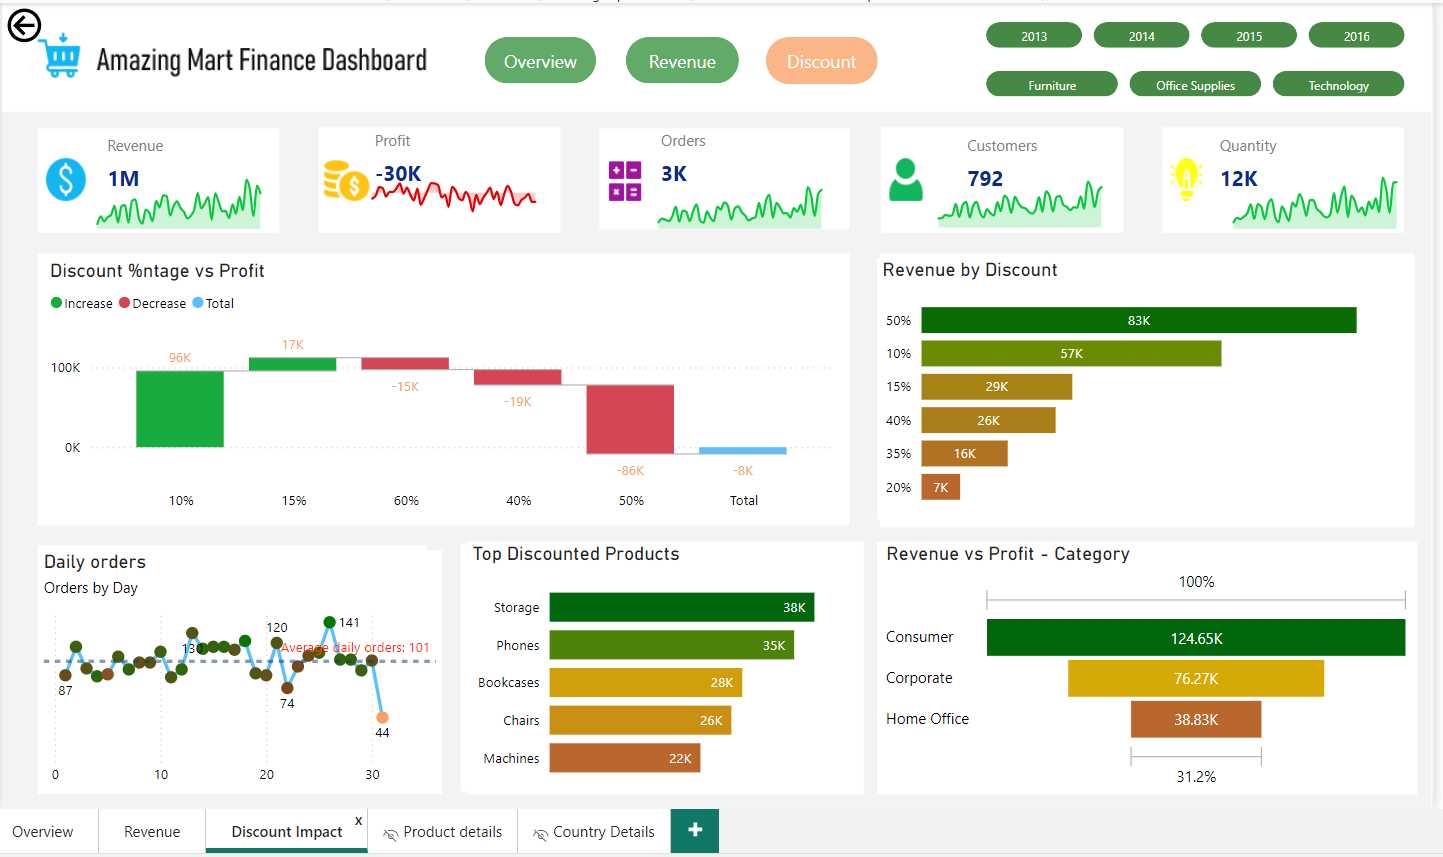

The dashboard page shown, as its layout file describes it:
{"tool":"powerbi","page":{"name":"Discount Impact","canvas":[1280,720],"ordinal":2},"visuals":[{"type":"hundredPercentStackedBarChart","title":"Profit by Ship Mode","fields":{"Series":["OrderBreakdown.Discount"],"Y":["OrderBreakdown.Total Profit"],"Category":["ListOfOrders.Ship Mode"]},"box":[782.2,481.6,478.9,225],"z":1000},{"type":"barChart","title":"Top Discounted Products","fields":{"Y":["Sum(OrderBreakdown.Discount $)"],"Category":["OrderBreakdown.Sub-Category"]},"box":[403.4,481.6,365,225],"z":2000},{"type":"actionButton","box":[556.7,30.4,101.2,41.9],"z":3000},{"type":"actionButton","box":[682,30.2,100.2,42.5],"z":4000},{"type":"actionButton","box":[430.9,30.4,99.8,41.9],"z":5000},{"type":"waterfallChart","title":"Revenue vs Profit - Category","fields":{"Category":["OrderBreakdown.Category"],"Y":["Sum(OrderBreakdown.Discount Revenue)"]},"box":[785.4,481.8,478.9,225.2],"z":6000},{"type":"actionButton","box":[0,0,100,40],"z":7000},{"type":"waterfallChart","title":"Discount %ntage vs Profit","fields":{"Category":["OrderBreakdown.Discount"],"Y":["Sum(OrderBreakdown.Profit)"]},"box":[37.6,228.4,710.7,233.8],"z":8000},{"type":"barChart","title":"Revenue by Discount","fields":{"Category":["OrderBreakdown.Discount"],"Y":["Sum(OrderBreakdown.Discount Revenue)"]},"box":[781.1,228.1,480.4,233.8],"z":9000},{"type":"lineChart","title":"Daily orders","fields":{"Y":["ListOfOrders.Orders"],"Category":["ListOfOrders.Order Date.Variation.Date Hierarchy.Day"]},"box":[32,482,371,225],"z":10000},{"type":"stackedAreaChart","fields":{"Category":["ListOfOrders.Order Date.Variation.Date Hierarchy.Year","ListOfOrders.Order Date.Variation.Date Hierarchy.Month"],"Y":["OrderBreakdown.Profit"]},"box":[315.6,134.5,175.6,78.2],"z":11000},{"type":"stackedAreaChart","fields":{"Category":["ListOfOrders.Order Date.Variation.Date Hierarchy.Year","ListOfOrders.Order Date.Variation.Date Hierarchy.Month"],"Y":["OrderBreakdown.Revenue"]},"box":[70,134.5,175.6,78.2],"z":12000},{"type":"stackedAreaChart","fields":{"Category":["ListOfOrders.Order Date.Variation.Date Hierarchy.Year","ListOfOrders.Order Date.Variation.Date Hierarchy.Month"],"Y":["ListOfOrders.Orders"]},"box":[572.2,134.5,175.6,78.2],"z":13000},{"type":"stackedAreaChart","fields":{"Category":["ListOfOrders.Order Date.Variation.Date Hierarchy.Year","ListOfOrders.Order Date.Variation.Date Hierarchy.Month"],"Y":["ListOfOrders.Customers"]},"box":[822,133.1,175.6,78.2],"z":14000},{"type":"stackedAreaChart","fields":{"Category":["ListOfOrders.Order Date.Variation.Date Hierarchy.Year","ListOfOrders.Order Date.Variation.Date Hierarchy.Month"],"Y":["Sum(OrderBreakdown.Quantity)"]},"box":[1085.4,134.5,175.6,78.2],"z":15000},{"type":"cardVisual","fields":{"Data":["OrderBreakdown.Revenue"]},"box":[77.4,106.2,175.6,101.5],"z":16000},{"type":"cardVisual","fields":{"Data":["Sum(OrderBreakdown.Quantity)"]},"box":[1070.9,106.2,175.6,101.5],"z":17000},{"type":"cardVisual","fields":{"Data":["ListOfOrders.Customers"]},"box":[845.3,105.7,175.6,101.5],"z":18000},{"type":"cardVisual","fields":{"Data":["ListOfOrders.Orders"]},"box":[572.2,101.5,175.6,101.5],"z":19000},{"type":"cardVisual","fields":{"Data":["OrderBreakdown.Profit"]},"box":[315.6,101.5,175.6,101.5],"z":20000},{"type":"advancedSlicerVisual","fields":{"Values":["ListOfOrders.Order Date.Variation.Date Hierarchy.Year"]},"box":[854.4,12.8,425.6,33.7],"z":21000},{"type":"advancedSlicerVisual","fields":{"Values":["OrderBreakdown.Category"]},"box":[854.4,55.8,425.6,33.7],"z":22000}]}

Visuals, with their boxes on the page's 1280x720 design canvas (x1, y1, x2, y2). These are canvas units, not pixel positions in the 1443x857 screenshot, which may show the page scaled, cropped or inside an application window:
"Profit by Ship Mode" hundredPercentStackedBarChart: <region>782, 482, 1261, 707</region>
"Top Discounted Products" barChart: <region>403, 482, 768, 707</region>
actionButton: <region>557, 30, 658, 72</region>
actionButton: <region>682, 30, 782, 73</region>
actionButton: <region>431, 30, 531, 72</region>
"Revenue vs Profit - Category" waterfallChart: <region>785, 482, 1264, 707</region>
actionButton: <region>0, 0, 100, 40</region>
"Discount %ntage vs Profit" waterfallChart: <region>38, 228, 748, 462</region>
"Revenue by Discount" barChart: <region>781, 228, 1262, 462</region>
"Daily orders" lineChart: <region>32, 482, 403, 707</region>
stackedAreaChart - ListOfOrders.Order Date.Variation.Date Hierarchy.Year x ListOfOrders.Order Date.Variation.Date Hierarchy.Month: <region>316, 134, 491, 213</region>
stackedAreaChart - ListOfOrders.Order Date.Variation.Date Hierarchy.Year x ListOfOrders.Order Date.Variation.Date Hierarchy.Month: <region>70, 134, 246, 213</region>
stackedAreaChart - ListOfOrders.Order Date.Variation.Date Hierarchy.Year x ListOfOrders.Order Date.Variation.Date Hierarchy.Month: <region>572, 134, 748, 213</region>
stackedAreaChart - ListOfOrders.Order Date.Variation.Date Hierarchy.Year x ListOfOrders.Order Date.Variation.Date Hierarchy.Month: <region>822, 133, 998, 211</region>
stackedAreaChart - ListOfOrders.Order Date.Variation.Date Hierarchy.Year x ListOfOrders.Order Date.Variation.Date Hierarchy.Month: <region>1085, 134, 1261, 213</region>
cardVisual - OrderBreakdown.Revenue: <region>77, 106, 253, 208</region>
cardVisual - Sum(OrderBreakdown.Quantity): <region>1071, 106, 1246, 208</region>
cardVisual - ListOfOrders.Customers: <region>845, 106, 1021, 207</region>
cardVisual - ListOfOrders.Orders: <region>572, 102, 748, 203</region>
cardVisual - OrderBreakdown.Profit: <region>316, 102, 491, 203</region>
advancedSlicerVisual - ListOfOrders.Order Date.Variation.Date Hierarchy.Year: <region>854, 13, 1280, 46</region>
advancedSlicerVisual - OrderBreakdown.Category: <region>854, 56, 1280, 90</region>
